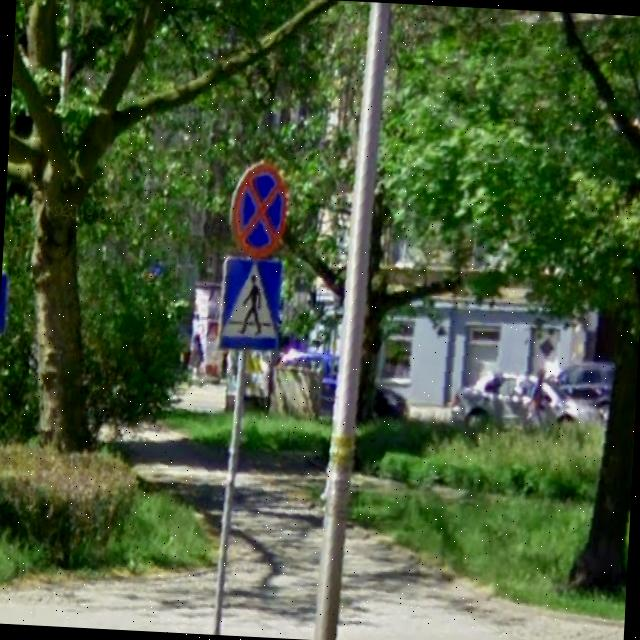Przejscie dla pieszych: (218, 256, 284, 352)
Zakaz zatrzymywania sie: (228, 158, 290, 258)
